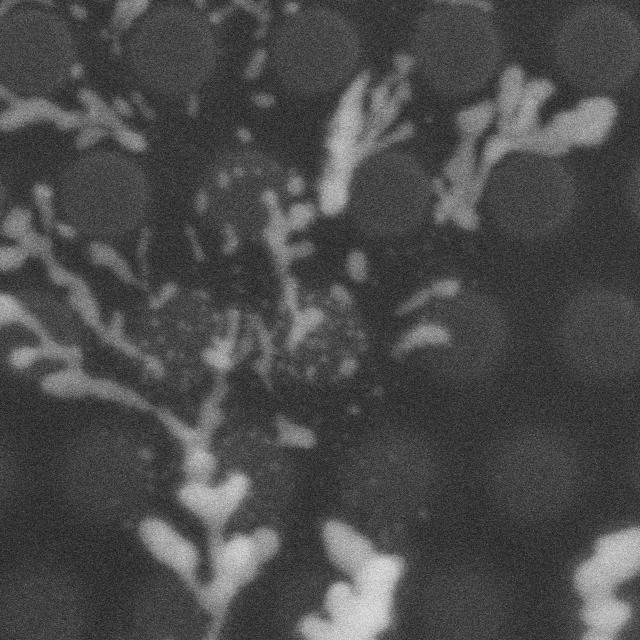Dendrite: (0, 295, 280, 640), (234, 238, 383, 528), (0, 179, 164, 373), (434, 65, 616, 230), (0, 54, 147, 184), (263, 248, 367, 386), (0, 68, 155, 153), (195, 146, 296, 254), (187, 0, 298, 44), (61, 0, 152, 48), (397, 279, 459, 317), (390, 321, 450, 358), (275, 414, 315, 448), (0, 0, 33, 18), (251, 92, 275, 108), (247, 54, 264, 74), (236, 127, 254, 143), (188, 103, 198, 119)
